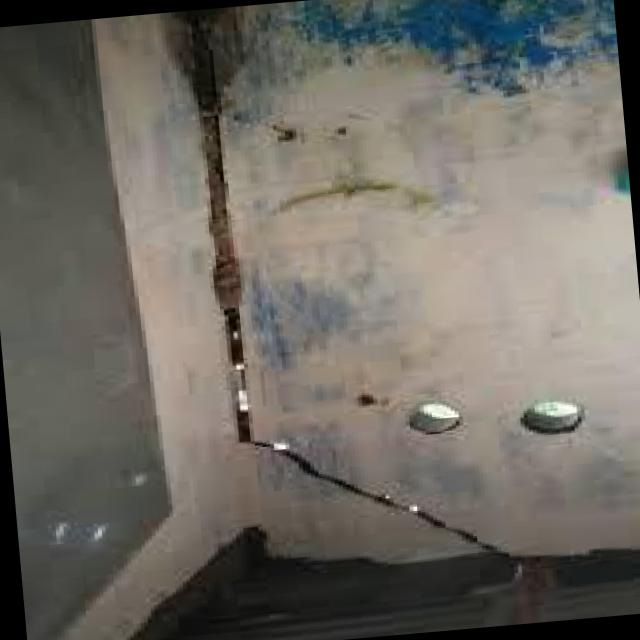crack: (160, 11, 502, 555)
